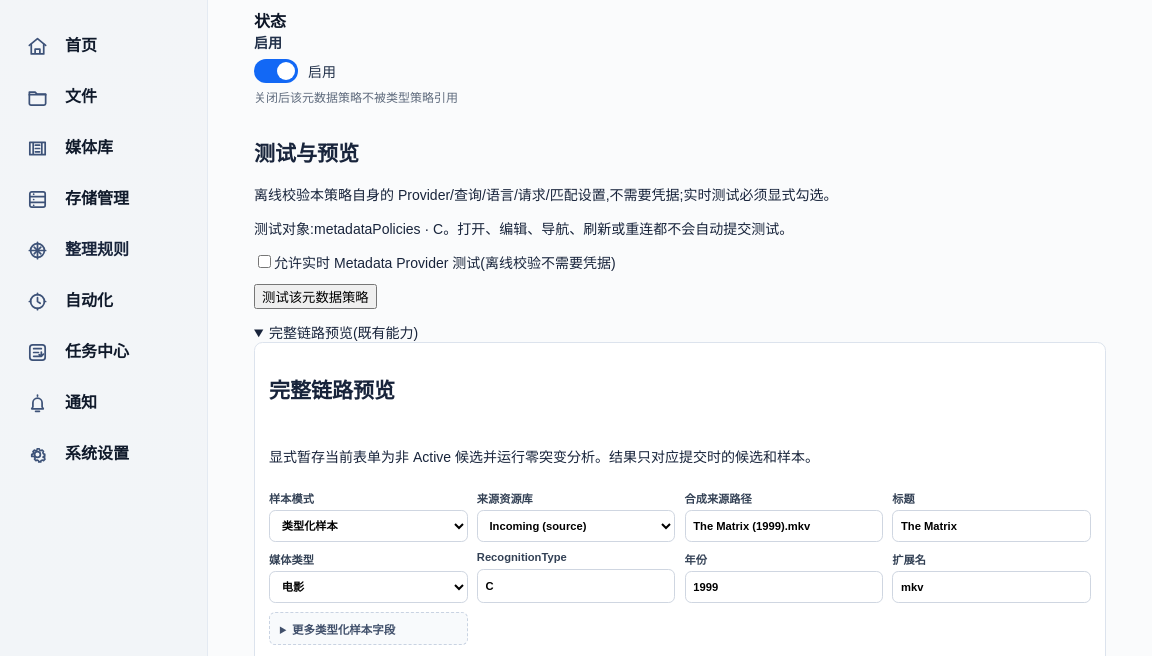
Test: Rules object-scoped local test › offers the explicit live Provider option for the MetadataPolicy family
(page scrolled)
expect the heading "测试与预览" is shown: met, box 254,142 -> 359,165
expect the checkbox named "允许实时元数据测试" is not checked: met, box 258,255 -> 271,268
Click the button "测试该元数据策略". click: coordinates (315, 296)
box: 254,284 -> 377,309
(page scrolled)
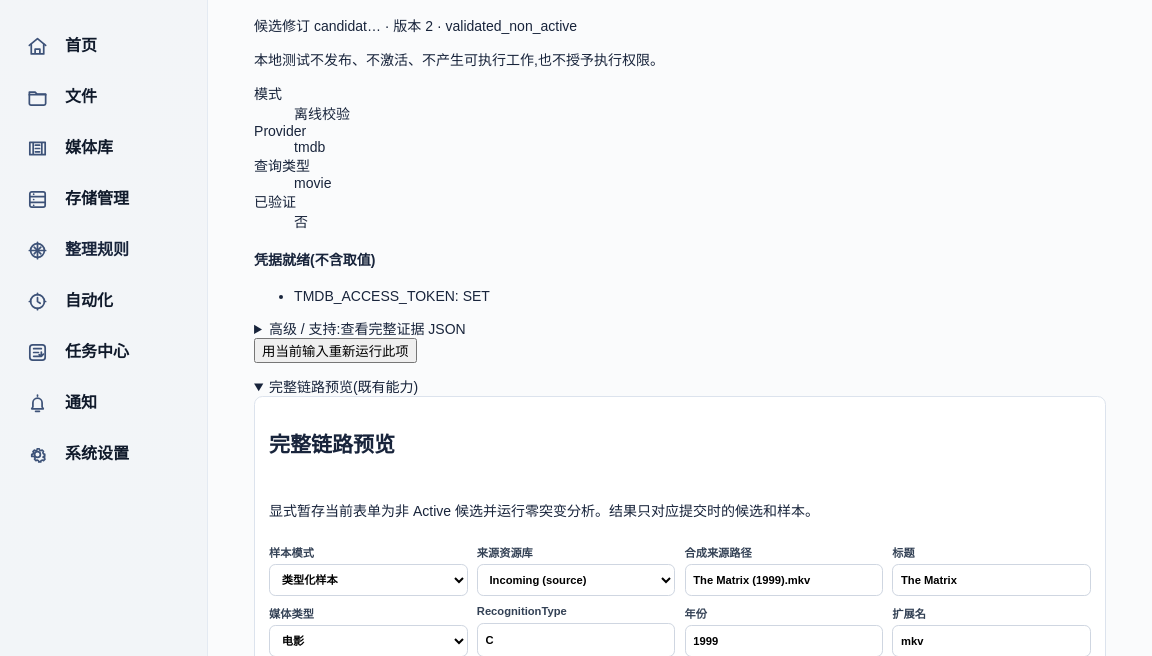
expect the list item "TMDB_ACCESS_TOKEN: SET" is shown: met, box 294,288 -> 490,304
